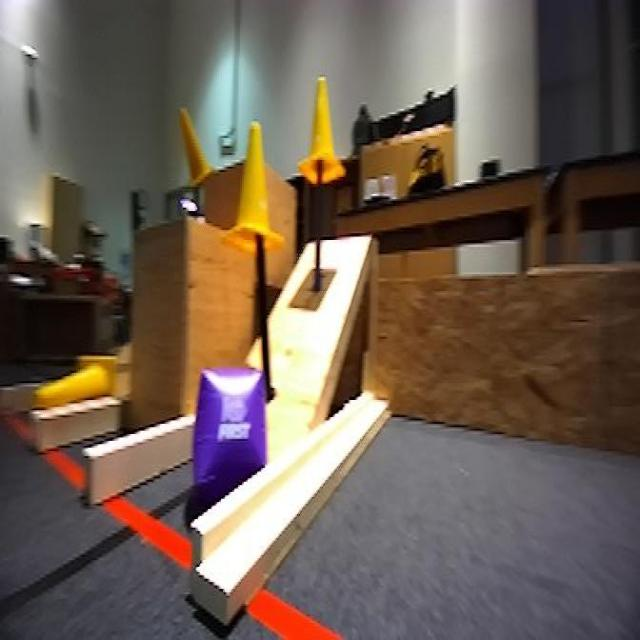frc_cone: (228, 128, 284, 252), (32, 351, 118, 418), (299, 75, 345, 187), (182, 106, 212, 190)
frc_cube: (182, 361, 268, 505)
